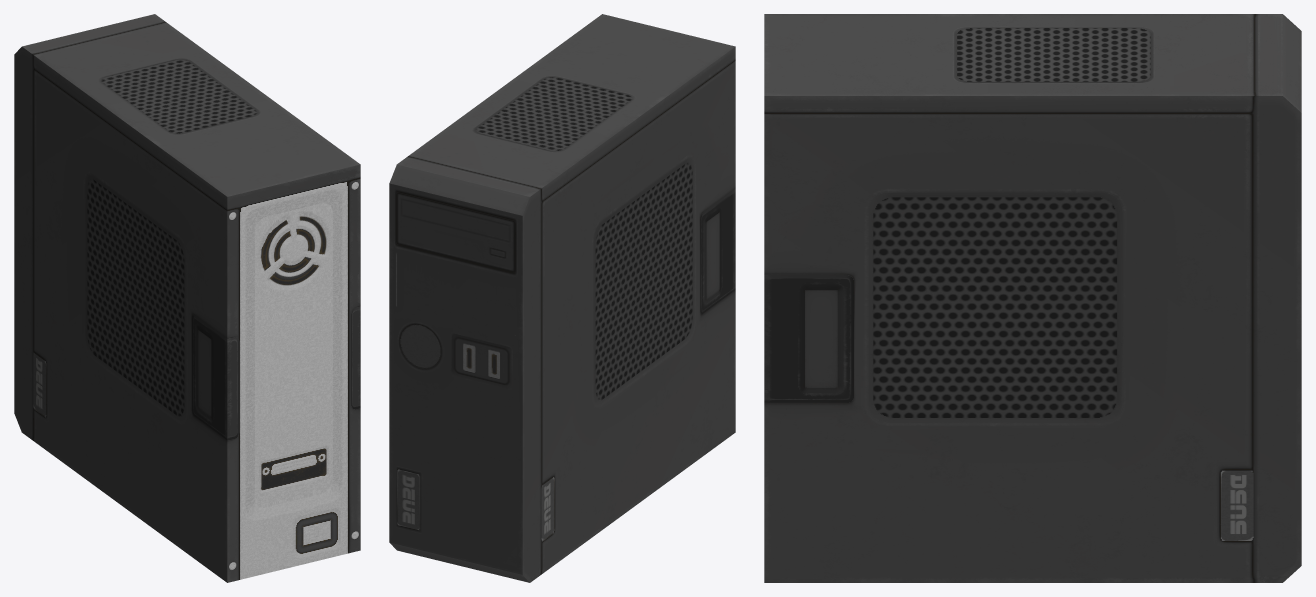
The model's file is P_Computer_003_S1_M02.obj.
The picture shows the model from 3 angles, left to right: view 1: azimuth 30°, elevation 25°; view 2: azimuth 150°, elevation 25°; view 3: azimuth 270°, elevation 25°; orthographic projection. The views are drawn at different scales.
Bounding box in the file's own units: 0.2809 × 0.7778 × 0.7778.
Materials: 1 (1 with a texture image).
